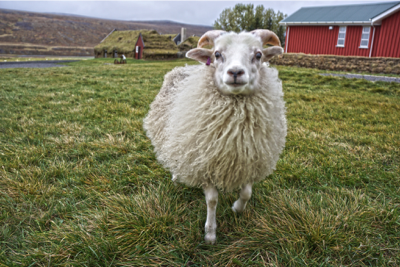koyun: (142, 27, 287, 245)
